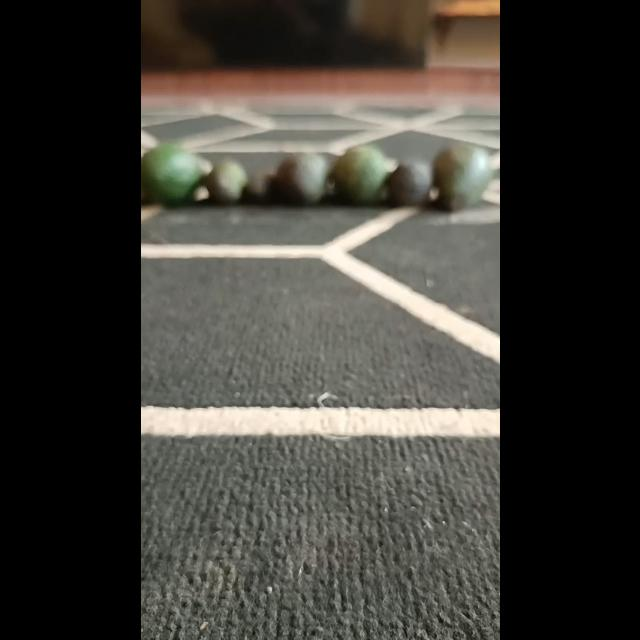Primera: (140, 142, 208, 206), (430, 143, 490, 211), (328, 144, 389, 204), (270, 151, 330, 205)
Segunda: (201, 158, 249, 204), (385, 160, 431, 208)
Tercera: (244, 168, 272, 202)
